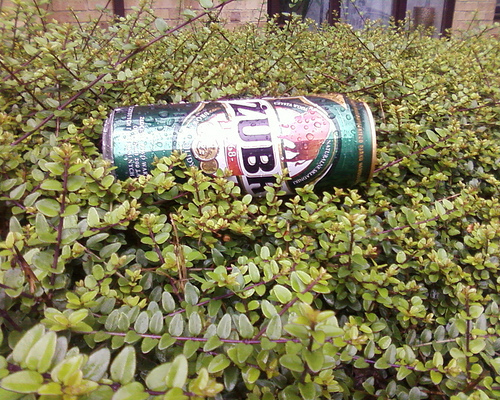litter: (100, 94, 377, 198)
